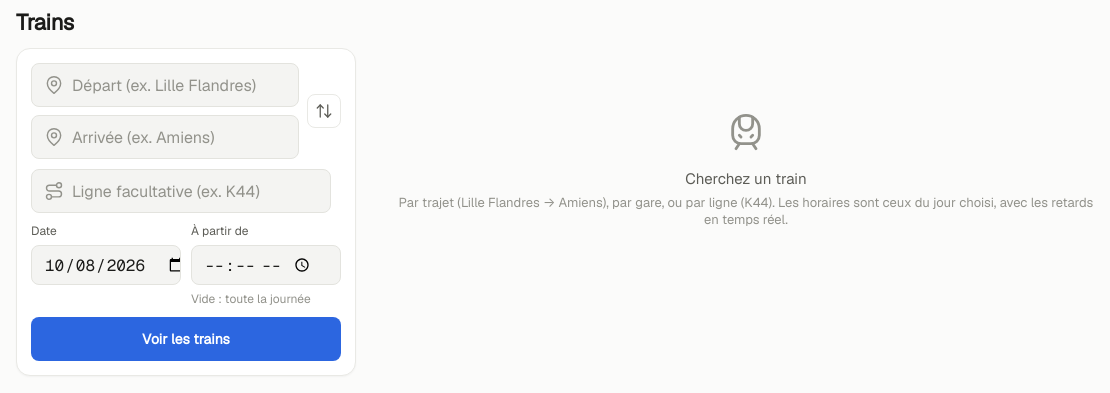
it: page Trains › autocomplétion des gares depuis le backend (pas de liste en dur)
In the dropdown named "Gare de départ": (179, 85) [72,64,286,106], type "lill"
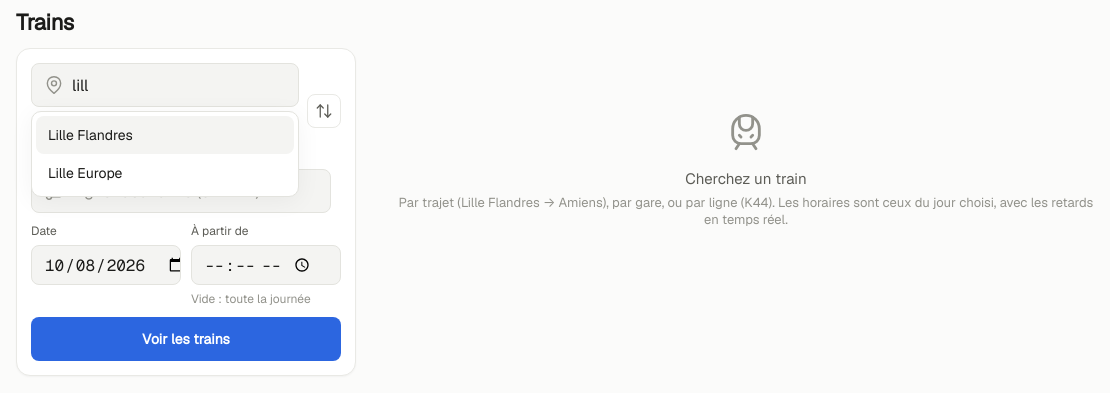
Click the option "Lille Flandres": click(165, 135) [36,116,294,154]
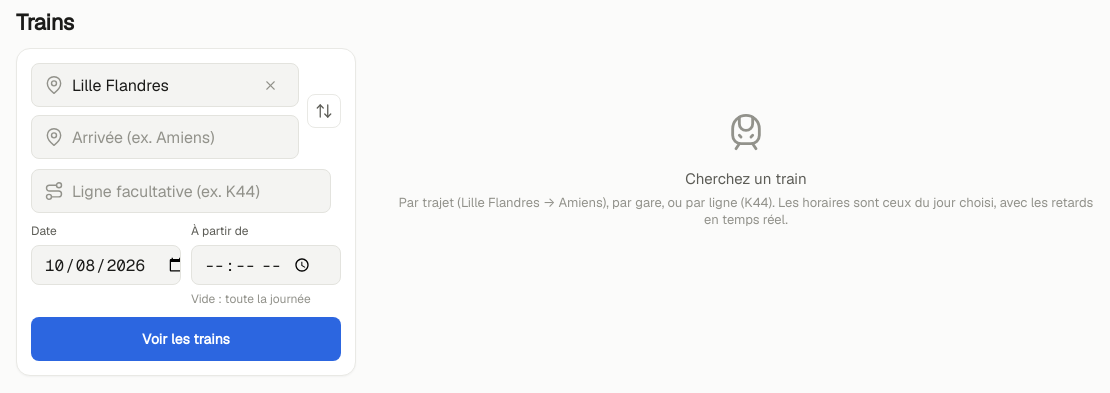
Result: the dropdown named "Gare de départ" holds "Lille Flandres" at [72,64,246,106]
